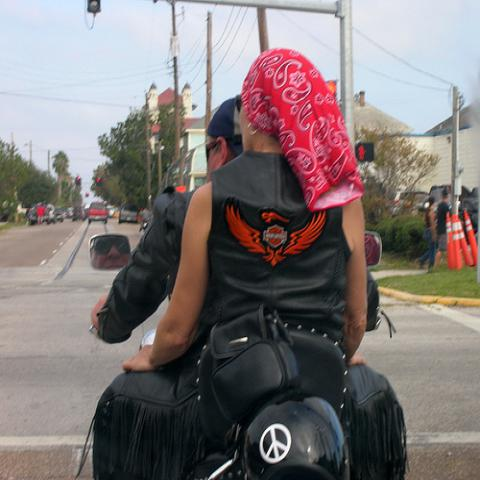car: (410, 184, 471, 214), (71, 206, 88, 221), (54, 205, 68, 223)
motorcycle: (91, 233, 382, 475)
truck: (88, 202, 108, 224), (119, 203, 139, 224)
